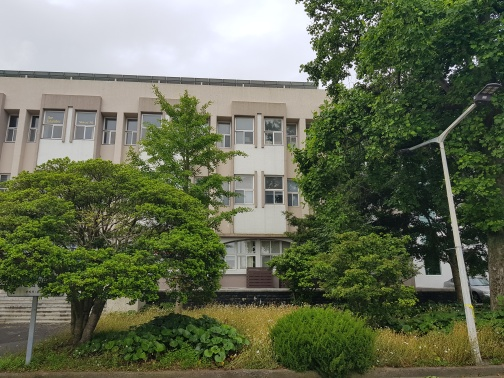Main Building of University: (11, 57, 301, 291)
